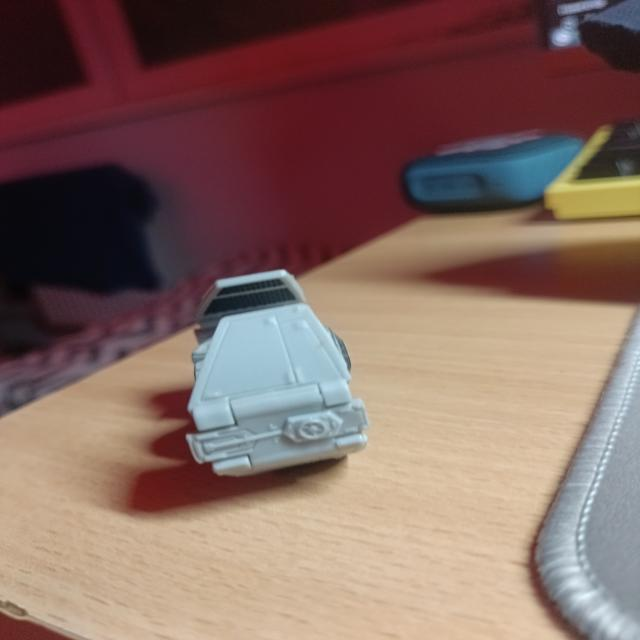tie fighter: (187, 270, 369, 476)
